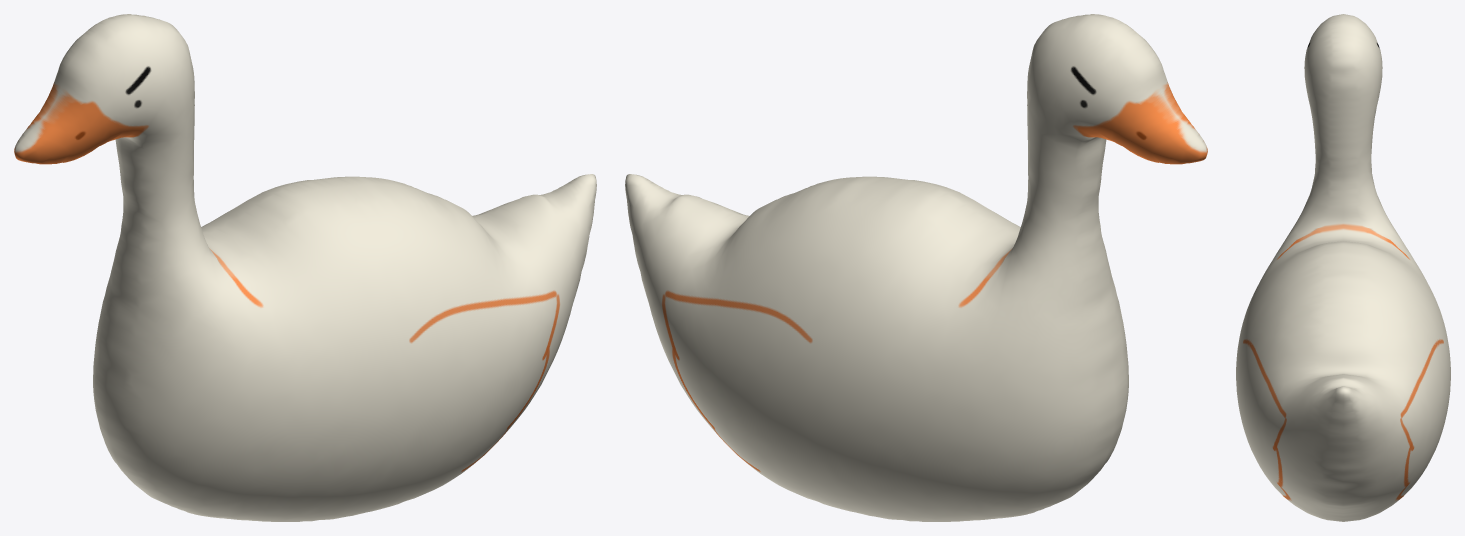
File: goose.obj
The picture shows the model from 3 angles, left to right: view 1: azimuth 30°, elevation 25°; view 2: azimuth 150°, elevation 25°; view 3: azimuth 270°, elevation 25°; orthographic projection. The views are drawn at different scales.
Bounding box in the file's own units: 6.06 × 5.36 × 2.61.
